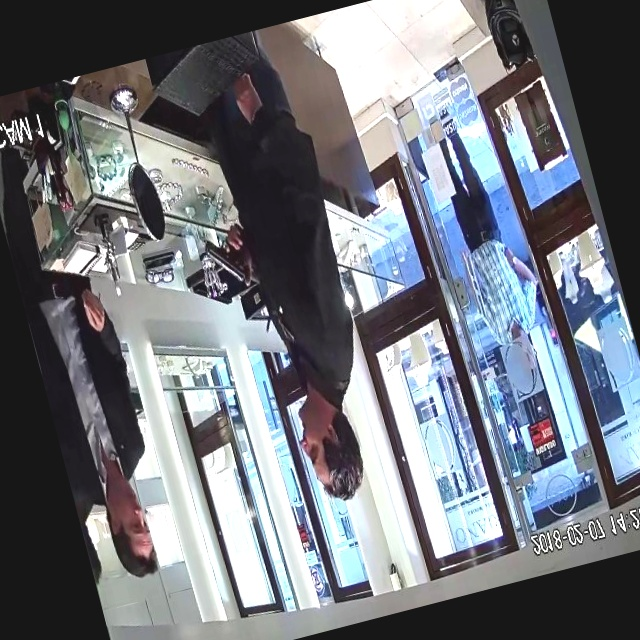gun: (187, 203, 260, 304)
